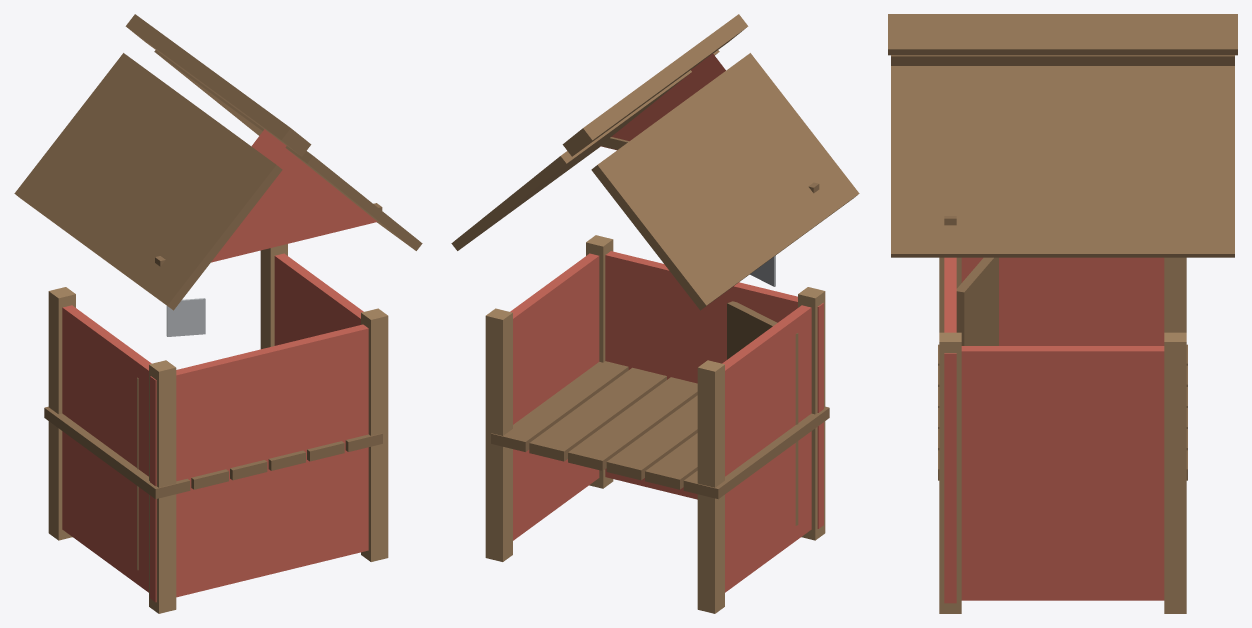
The model's file is outhouse.glb.
3 renders of one model, left to right at view 1: azimuth 30°, elevation 25°; view 2: azimuth 150°, elevation 25°; view 3: azimuth 270°, elevation 25°, orthographic. The views are drawn at different scales.
Visible parts, largest first — view 1: Outhouse; view 2: Outhouse; view 3: Outhouse.
Boxes of the visible parts, x1,y1,x2,y2 form: Outhouse: (14, 14, 422, 613); Outhouse: (451, 14, 859, 613); Outhouse: (888, 14, 1237, 613).
Size of the model in its own units: 2.65 by 4.72 by 2.8.
